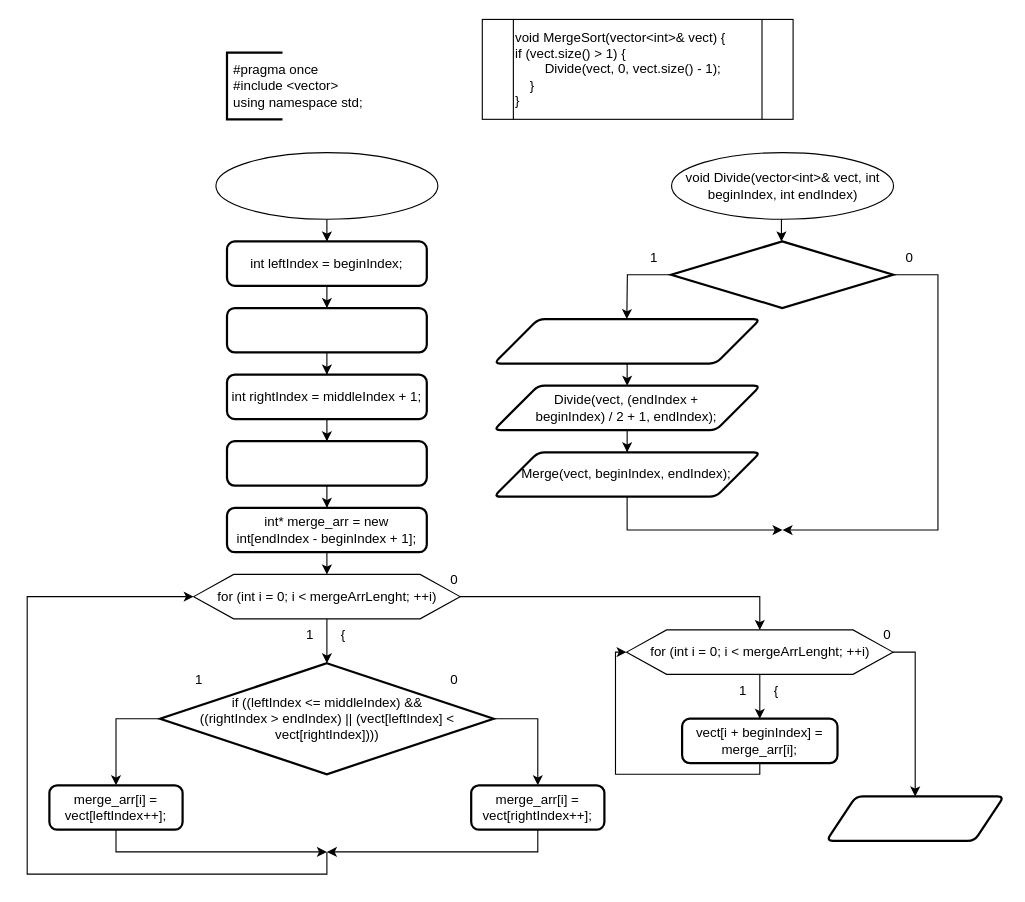
This 1025x902 diagram has some shape labels left out. The box of each missing label's shape, as (x1, y1, x2, y2) in pixels:
delete[] merge_arr;: (825, 795, 1005, 841)
Divide(vect, beginIndex, (endIndex + beginIndex) / 2);: (492, 317, 761, 364)
if (beginIndex < endIndex): (670, 240, 894, 309)
int mergeArrLenght = endIndex - beginIndex + 1;: (225, 440, 427, 486)
int middleIndex = (beginIndex + endIndex) / 2;: (225, 306, 427, 353)
void Merge(vector<int>& vect, int beginIndex, int endIndex): (215, 152, 438, 219)
